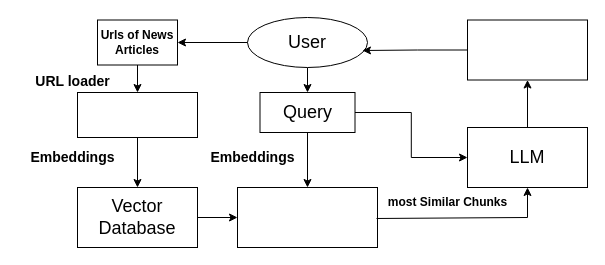
Some shapes in this 605 by 265 pixel diagram are drawn without their labels. Here are the shapes that lost their labels. From the top down, the centre of each, then its label:
point 527,49: Result
point 137,115: Chunking
point 307,217: Cosine Similarity
